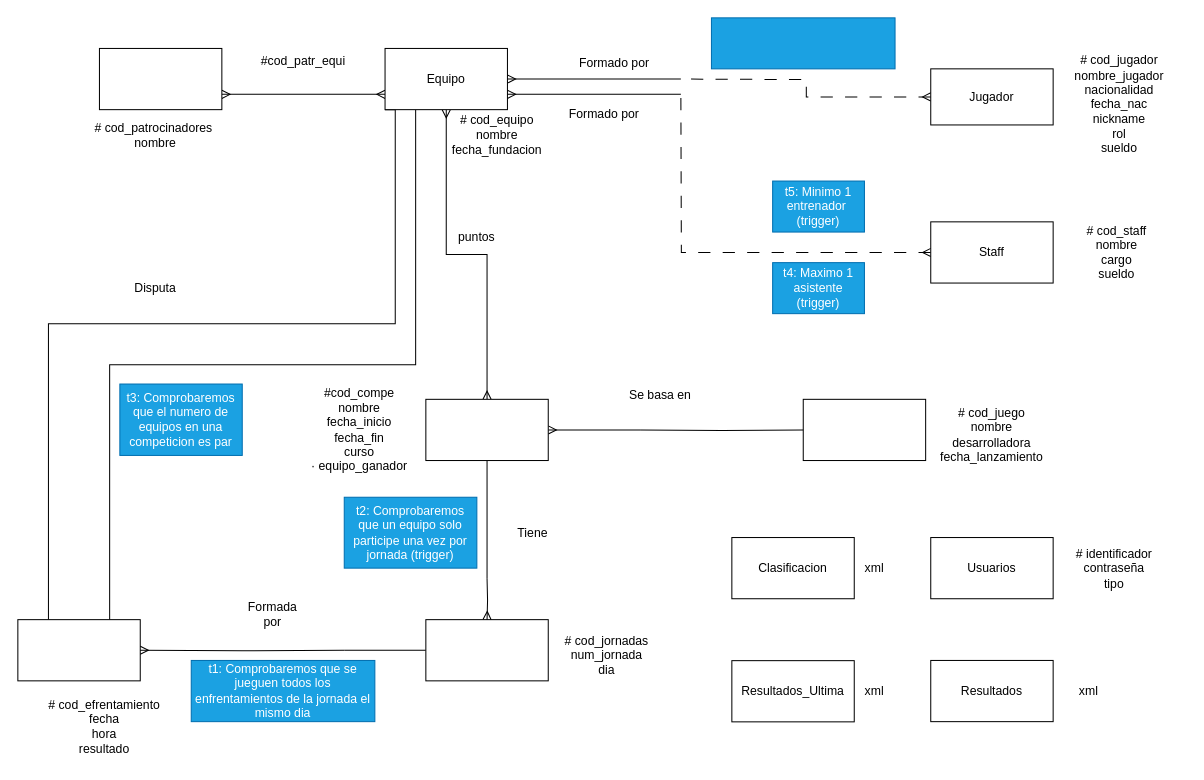
The diagram is 1204 pixels wide and 780 high, and some of its shapes have lost their labels. Here are the shapes that lost their labels. From the top down, the box of each, then its label:
(710, 17, 895, 69): t6: Maximo 6 jugadores por equipo y minimo 2 (utilizaremos un trigger)
(98, 47, 222, 110): Patrocinador
(425, 398, 548, 461): Competicion
(802, 398, 926, 461): Juego
(17, 619, 140, 681): Enfrentamiento
(425, 619, 548, 681): Jornada
